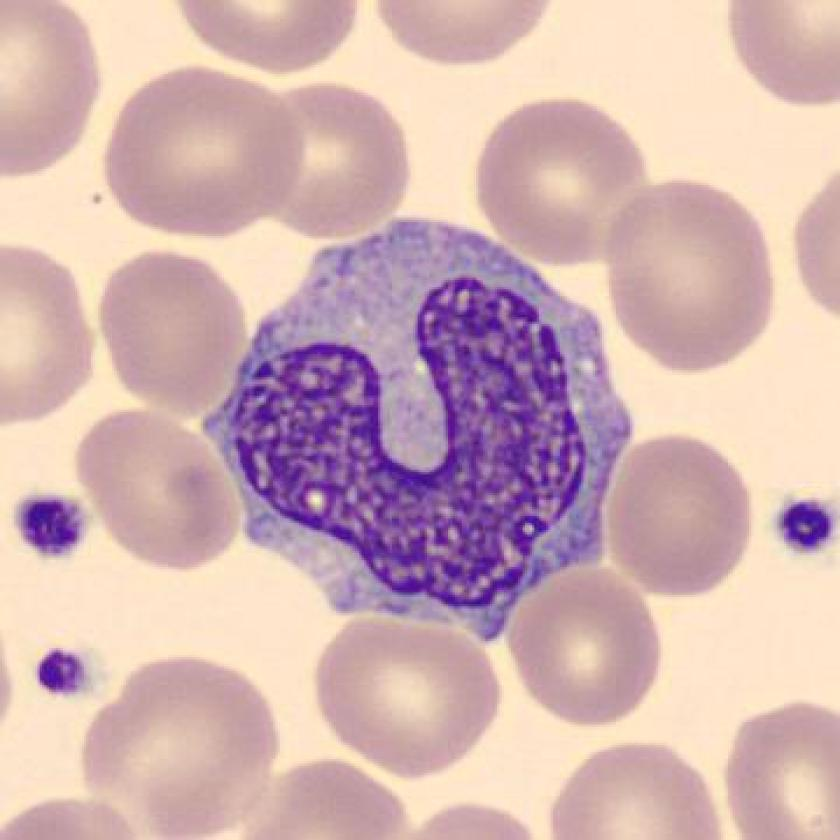monocyte: (186, 184, 669, 660)
